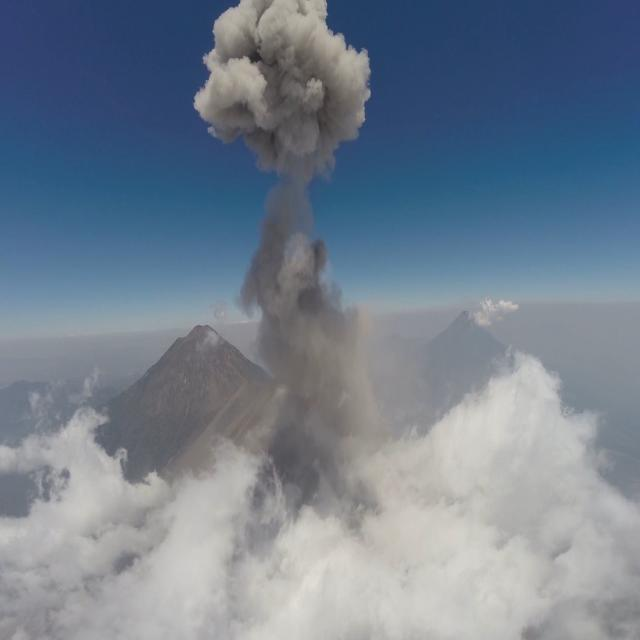Plume: (245, 192, 378, 454), (196, 0, 374, 179)
